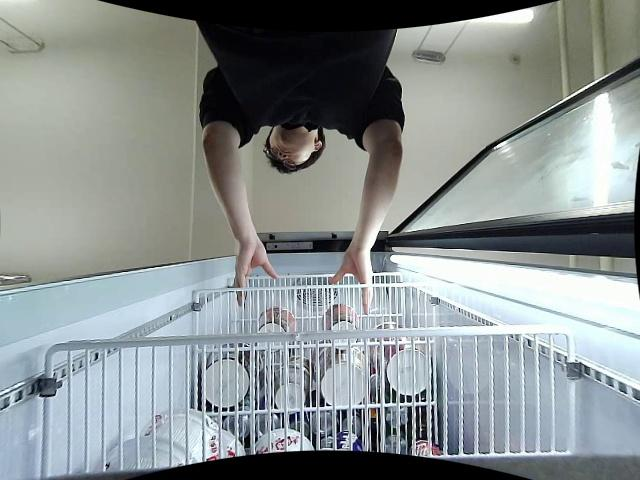00_hand: (329, 249, 375, 313), (233, 240, 278, 305)
